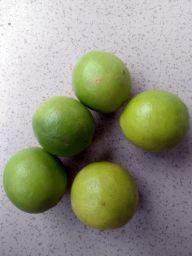lemon: (67, 159, 142, 232), (0, 143, 72, 216), (117, 87, 192, 156), (30, 93, 100, 159), (69, 48, 134, 115)
